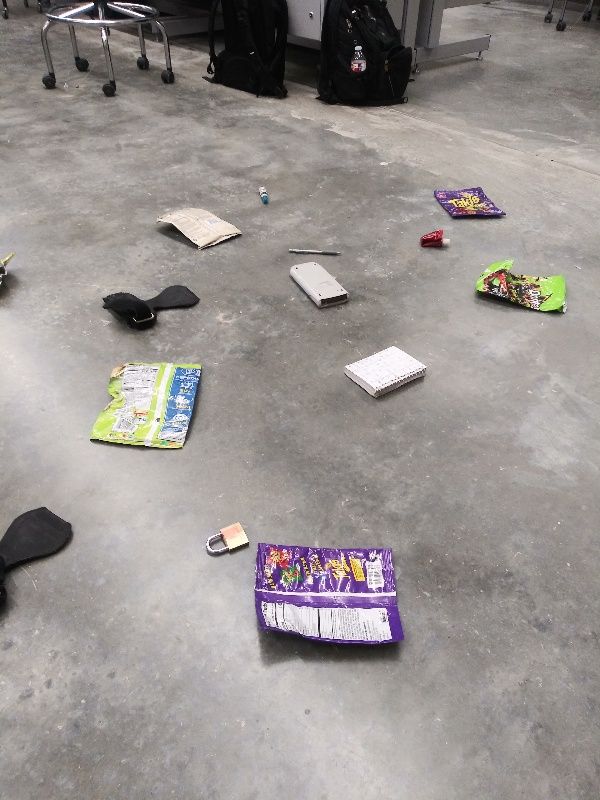bag: (250, 537, 410, 654), (82, 359, 209, 456), (468, 256, 573, 315), (152, 201, 249, 251), (428, 184, 511, 224)
bottle: (346, 41, 369, 76)
